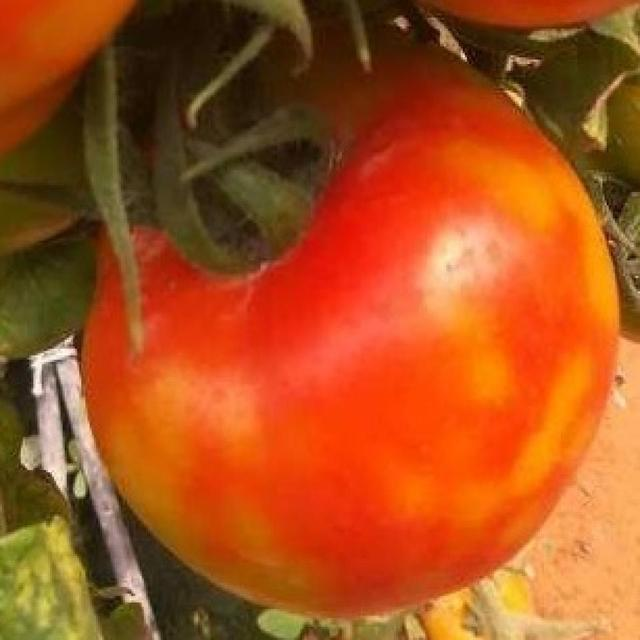Spotted wilt Virus Fruit: (53, 16, 414, 413)
